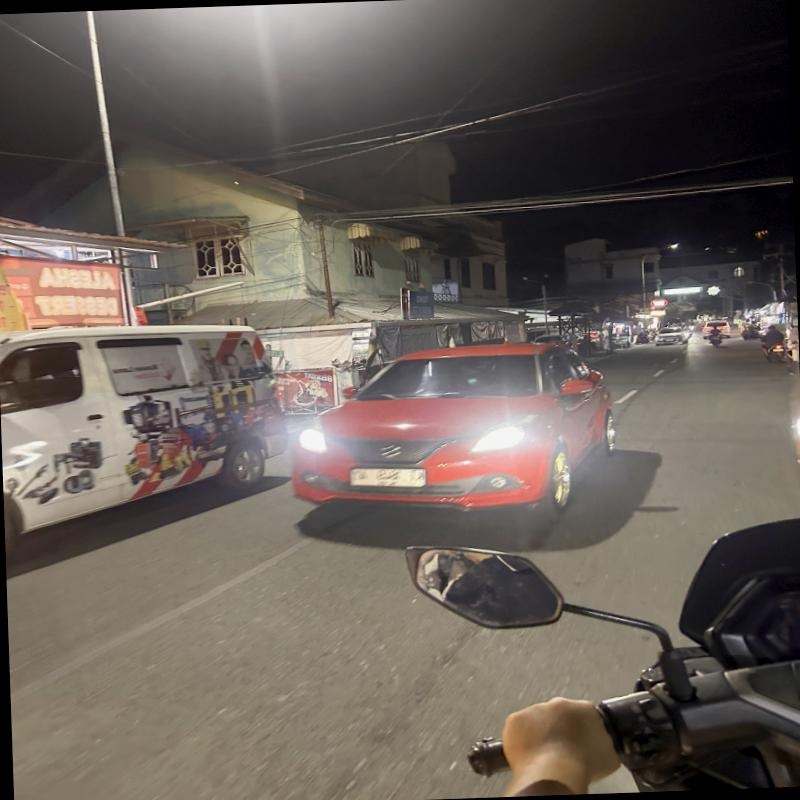license plate on a car: (344, 465, 425, 487)
